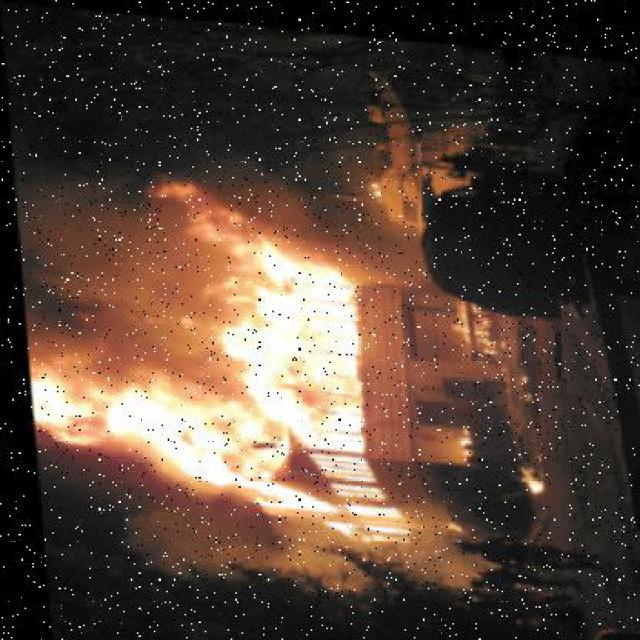fire: (10, 149, 403, 541)
